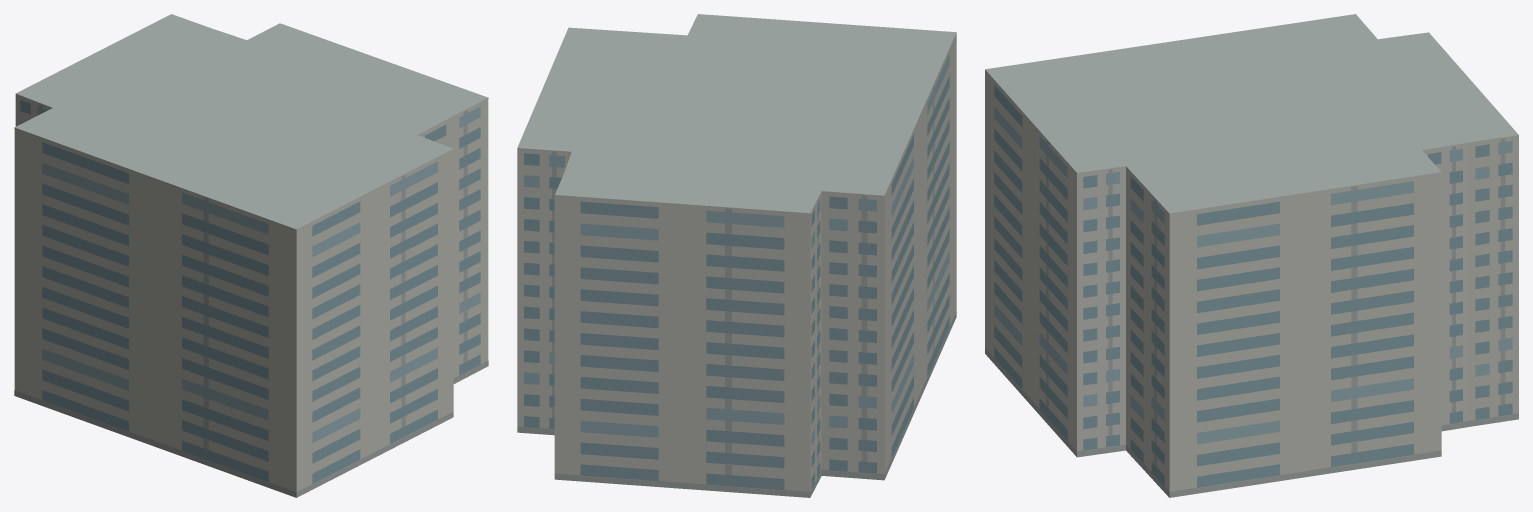
The model's file is survey-upis-32762267.glb.
3 views of the same model, side by side, from view 1: azimuth 30°, elevation 25°; view 2: azimuth 150°, elevation 25°; view 3: azimuth 270°, elevation 25° (orthographic). The views are drawn at different scales.
Parts seen in each view (by area): view 1: survey-upis-32762267.tmp; view 2: survey-upis-32762267.tmp; view 3: survey-upis-32762267.tmp.
Part boxes in pixels (bbox=[...]): survey-upis-32762267.tmp: bbox=[14, 14, 488, 497]; survey-upis-32762267.tmp: bbox=[517, 14, 956, 497]; survey-upis-32762267.tmp: bbox=[985, 14, 1518, 497].
Bounding box in the file's own units: 81.26 × 54 × 91.88.
